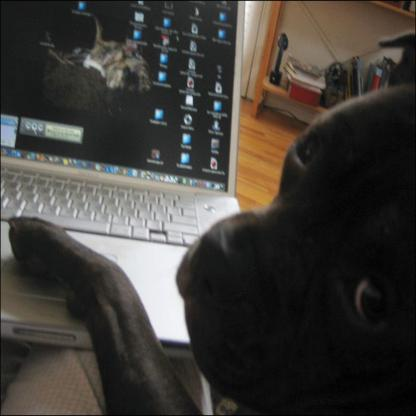board: (1, 3, 256, 346)
